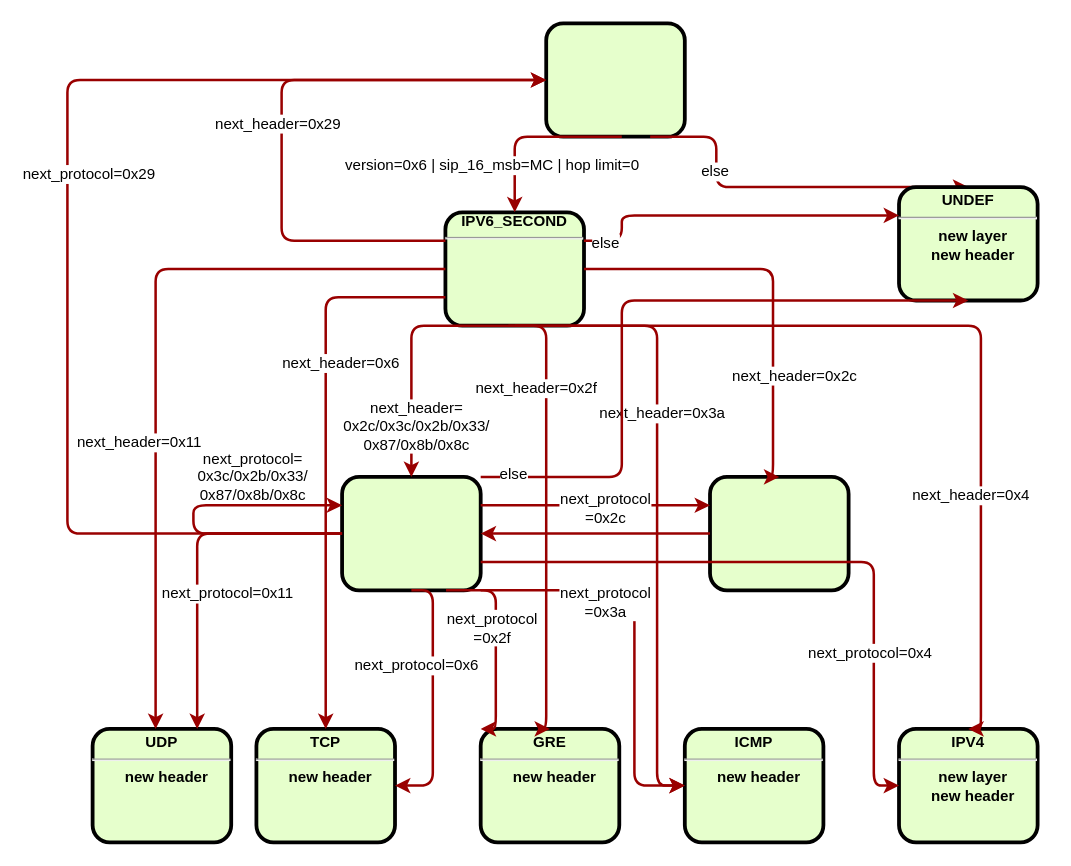
The diagram is 1071 pixels wide and 866 high, and some of its shapes have lost their labels. The box of each missing label's shape, as (x1, y1, x2, y2) in pixels:
IPV6_EH: (340, 474, 482, 592)
IPV6_FIRST new layer new header: (544, 21, 686, 138)
IPV6_FRAG_EH indicate if fragmented: (707, 474, 850, 592)
